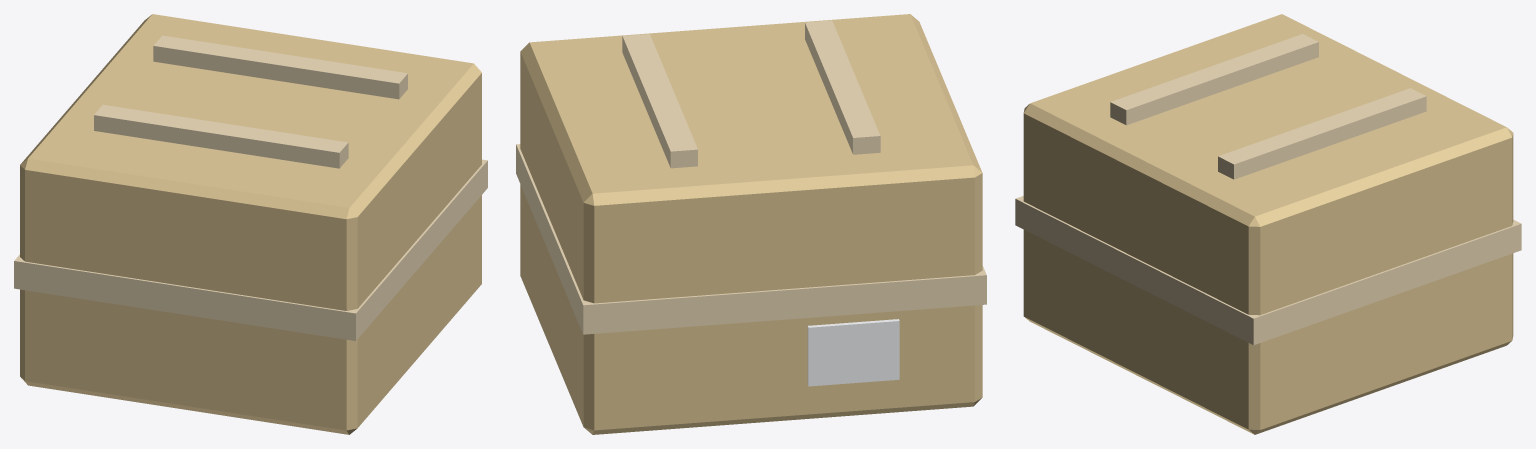
The model's file is paper_chest.fbx.
3 views of the same model, side by side, from view 1: azimuth 30°, elevation 25°; view 2: azimuth 150°, elevation 25°; view 3: azimuth 270°, elevation 25° (orthographic). The views are drawn at different scales.
Parts seen in each view (by area): view 1: paper_chest; view 2: paper_chest; view 3: paper_chest.
Part boxes in pixels (box(x1,y1,x2,y2)): paper_chest: box(14, 14, 487, 434); paper_chest: box(516, 14, 986, 434); paper_chest: box(1015, 14, 1521, 434).
Size of the model in its own units: 2.43 by 1.23 by 2.42.
